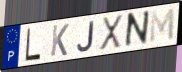J: (76, 20, 96, 53)
K: (49, 23, 70, 58)
L: (24, 27, 42, 63)
M: (149, 7, 176, 46)
N: (123, 9, 152, 51)
X: (98, 14, 124, 52)
